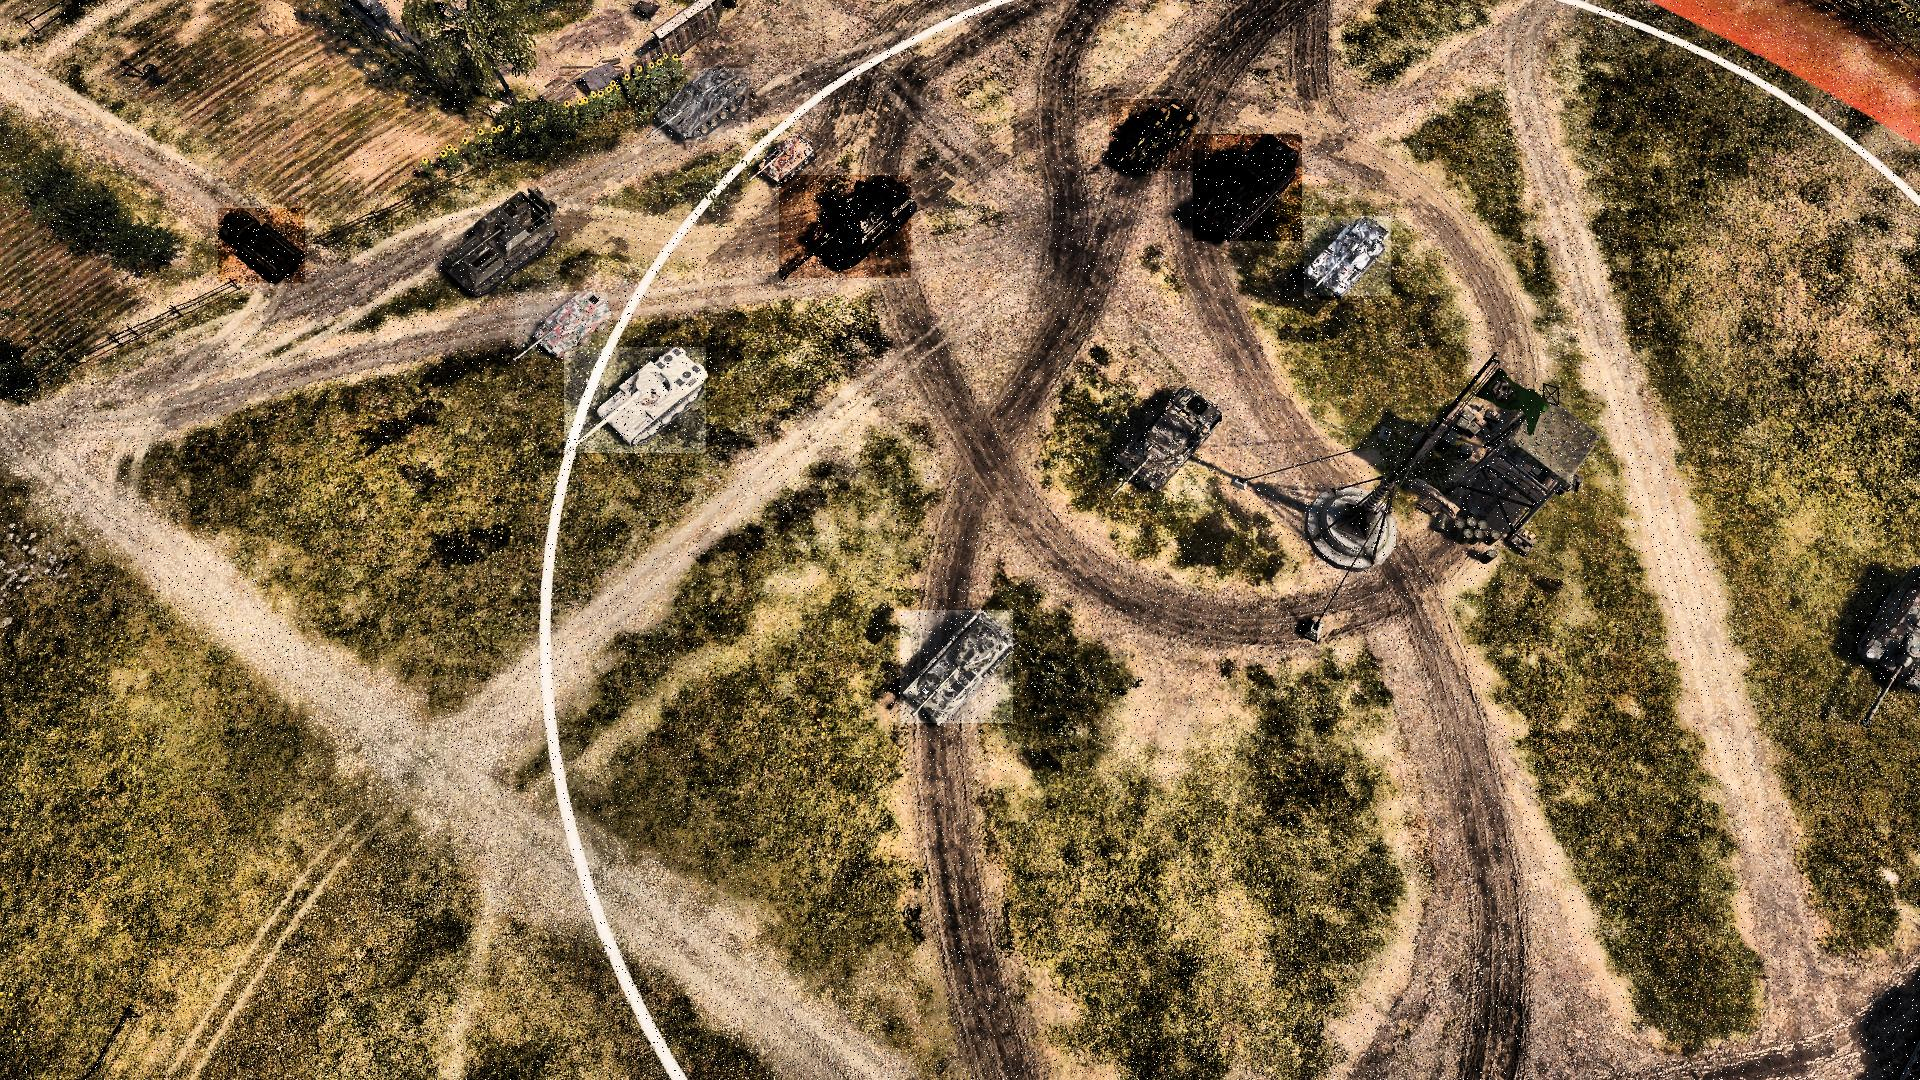military-vehicle: (564, 347, 707, 454), (779, 175, 911, 278), (434, 189, 560, 293), (1105, 386, 1220, 497), (901, 611, 1013, 723), (1193, 135, 1302, 241), (651, 69, 750, 142), (1305, 216, 1391, 297), (219, 208, 305, 284), (516, 291, 608, 359), (1110, 100, 1197, 171), (750, 137, 814, 187)
